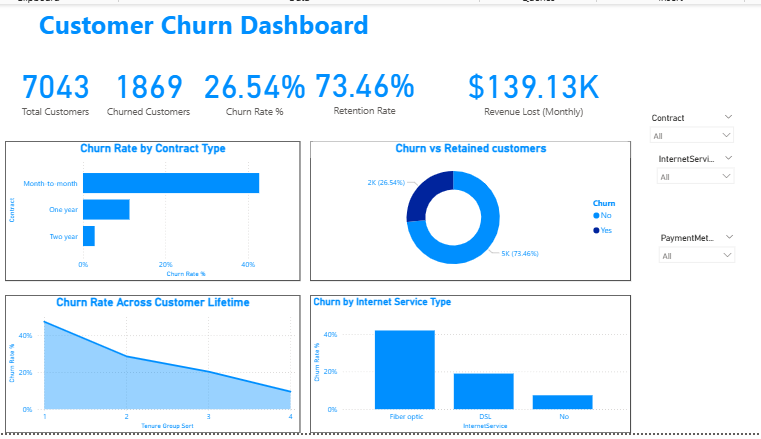

This screenshot's page, from the dashboard's own definition file:
{"tool":"powerbi","page":{"name":"Overview & KPIs","canvas":[1280,720],"ordinal":0},"visuals":[{"type":"textbox","box":[10.1,0,680.3,67.2],"z":0},{"type":"card","fields":{"Values":["WA_Fn-UseC_-Telco-Customer-Churn.Total Customers"]},"box":[10.1,84,169.7,115.9],"z":1},{"type":"card","fields":{"Values":["WA_Fn-UseC_-Telco-Customer-Churn.Churned Customers"]},"box":[166.3,84,169.7,115.9],"z":2},{"type":"card","fields":{"Values":["WA_Fn-UseC_-Telco-Customer-Churn.Churn Rate %"]},"box":[336,84,186.5,115.9],"z":3},{"type":"card","fields":{"Values":["WA_Fn-UseC_-Telco-Customer-Churn.Retention Rate"]},"box":[522.4,84,183.1,112.5],"z":4},{"type":"card","fields":{"Values":["WA_Fn-UseC_-Telco-Customer-Churn.Revenue Lost (Monthly)"]},"box":[777.7,84,240.2,115.9],"z":5},{"type":"clusteredBarChart","title":"Churn Rate by Contract Type","fields":{"Y":["WA_Fn-UseC_-Telco-Customer-Churn.Churn Rate %"],"Category":["WA_Fn-UseC_-Telco-Customer-Churn.Contract"]},"box":[10.1,230.1,495.5,235.2],"z":6},{"type":"donutChart","title":"Churn vs Retained customers","fields":{"Category":["WA_Fn-UseC_-Telco-Customer-Churn.Churn"],"Y":["WA_Fn-UseC_-Telco-Customer-Churn.Total Customers"]},"box":[522.4,230.1,539.2,235.2],"z":7},{"type":"areaChart","title":"Churn Rate Across Customer Lifetime","fields":{"Y":["WA_Fn-UseC_-Telco-Customer-Churn.Churn Rate %"],"Category":["WA_Fn-UseC_-Telco-Customer-Churn.Tenure Group Sort"]},"box":[10.1,488.8,495.5,231.8],"z":8},{"type":"clusteredColumnChart","title":"Churn by Internet Service Type","fields":{"Category":["WA_Fn-UseC_-Telco-Customer-Churn.InternetService"],"Y":["WA_Fn-UseC_-Telco-Customer-Churn.Churn Rate %"]},"box":[522.4,488.8,539.2,231.8],"z":9},{"type":"slicer","fields":{"Values":["WA_Fn-UseC_-Telco-Customer-Churn.PaymentMethod"]},"box":[1098.6,379.6,147.8,109.2],"z":10},{"type":"slicer","fields":{"Values":["WA_Fn-UseC_-Telco-Customer-Churn.Contract"]},"box":[1083.5,178.1,161.3,137.7],"z":11},{"type":"slicer","fields":{"Values":["WA_Fn-UseC_-Telco-Customer-Churn.InternetService"]},"box":[1095.2,246.9,149.5,126],"z":12}]}

Visuals, with their boxes in screenshot pixels (x1, y1, x2, y2), scaled from the page's 1280x720 canvas onto the 761x439 screenshot:
textbox: <box>6,0,410,41</box>
card - WA_Fn-UseC_-Telco-Customer-Churn.Total Customers: <box>6,51,107,122</box>
card - WA_Fn-UseC_-Telco-Customer-Churn.Churned Customers: <box>99,51,200,122</box>
card - WA_Fn-UseC_-Telco-Customer-Churn.Churn Rate %: <box>200,51,311,122</box>
card - WA_Fn-UseC_-Telco-Customer-Churn.Retention Rate: <box>311,51,419,120</box>
card - WA_Fn-UseC_-Telco-Customer-Churn.Revenue Lost (Monthly): <box>462,51,605,122</box>
"Churn Rate by Contract Type" clusteredBarChart: <box>6,140,301,284</box>
"Churn vs Retained customers" donutChart: <box>311,140,631,284</box>
"Churn Rate Across Customer Lifetime" areaChart: <box>6,298,301,438</box>
"Churn by Internet Service Type" clusteredColumnChart: <box>311,298,631,438</box>
slicer - WA_Fn-UseC_-Telco-Customer-Churn.PaymentMethod: <box>653,231,741,298</box>
slicer - WA_Fn-UseC_-Telco-Customer-Churn.Contract: <box>644,109,740,193</box>
slicer - WA_Fn-UseC_-Telco-Customer-Churn.InternetService: <box>651,151,740,227</box>
